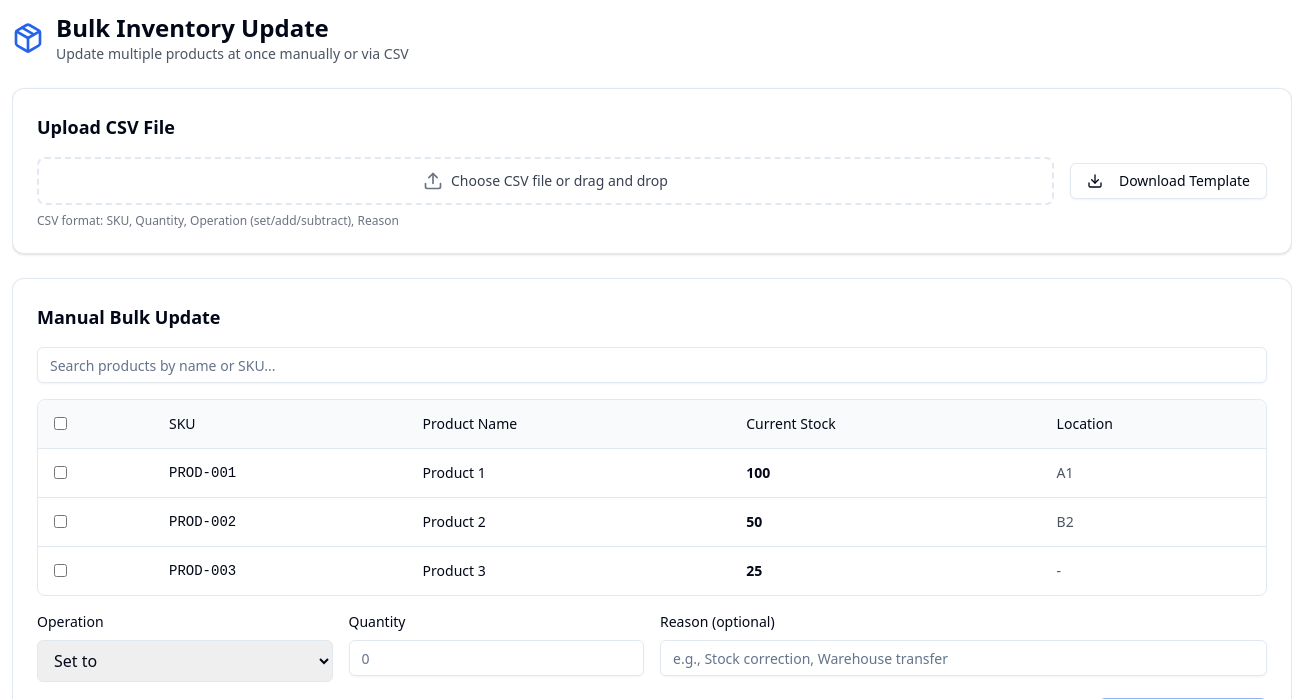
Test: BulkInventoryUpdate › allows deselecting all items
The image size is (1292, 699).
Step 1. Click the checkbox with test id "select-all-checkbox" → {"x": 60, "y": 424}, box left=54, top=417, right=67, bottom=430
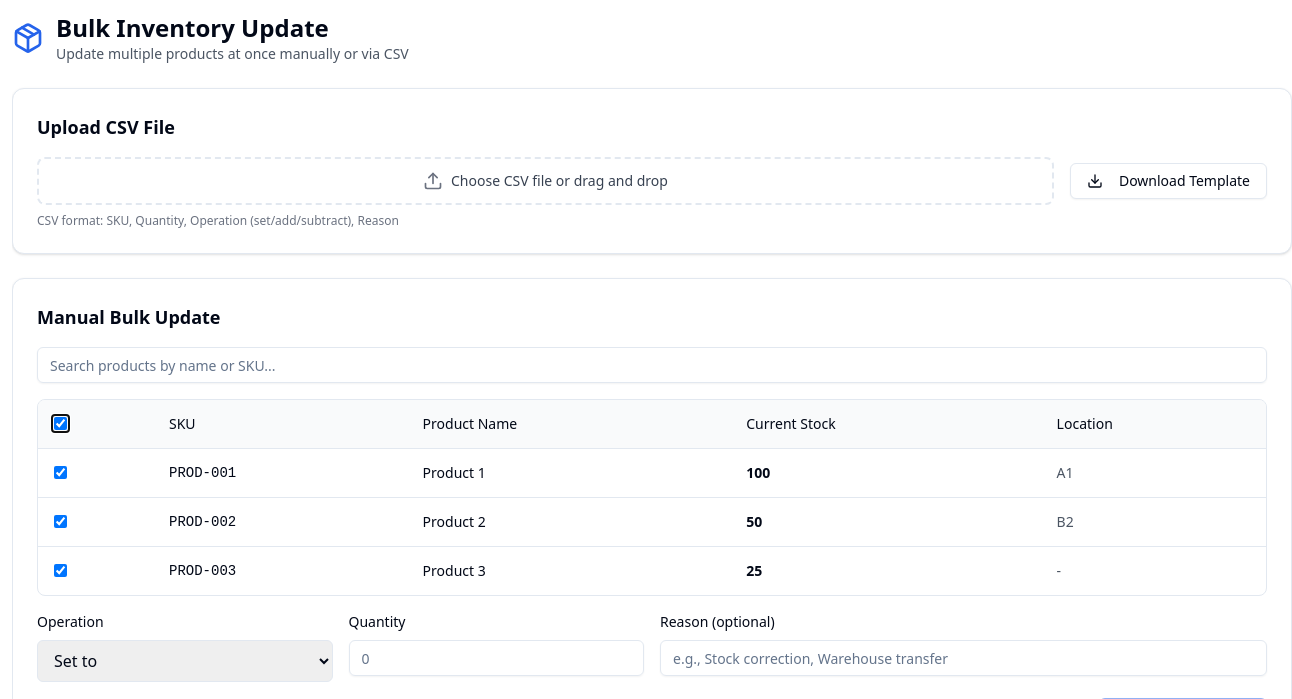
Step 2. Click the checkbox with test id "select-all-checkbox" → {"x": 60, "y": 424}, box left=54, top=417, right=67, bottom=430
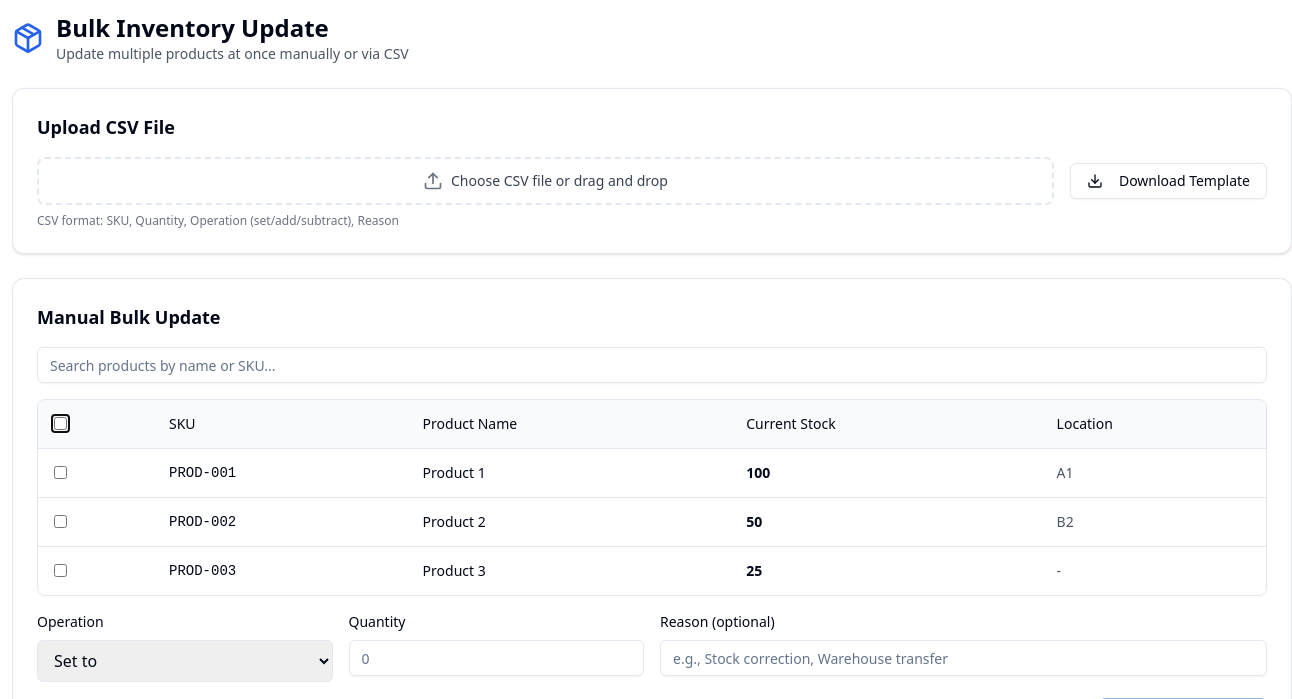
Expected: the checkbox with test id "checkbox-1" is not checked, left=54, top=466, right=67, bottom=479
